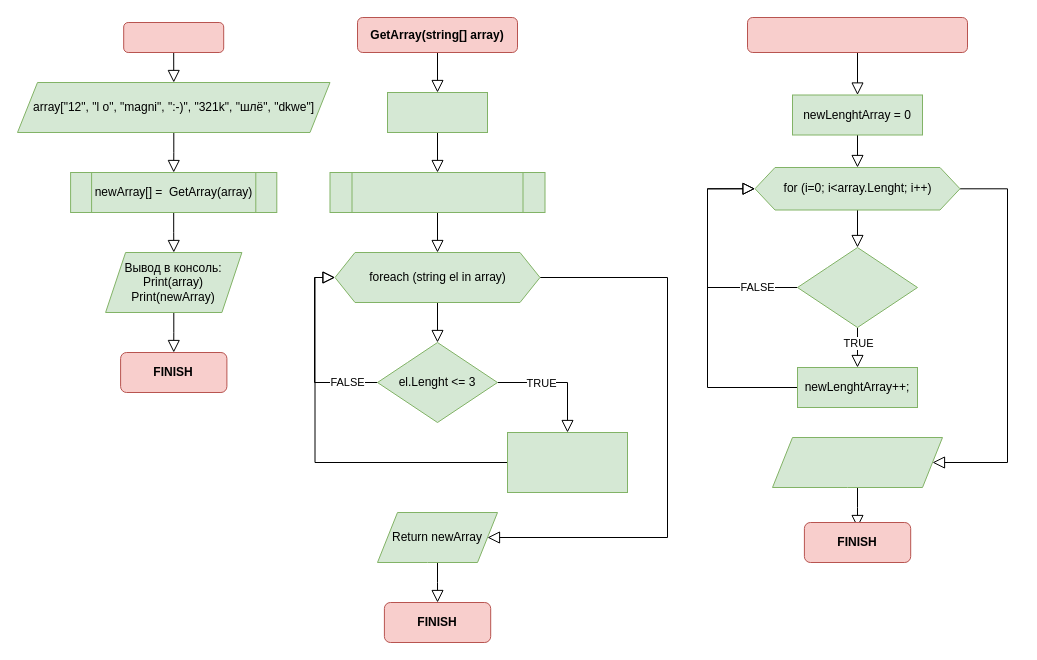
Image size: 1037x660. Some labels were removed from this diagram. The shapes that lost their labels are listed below. From the top down, each one's box as (x1, y1, x2, y2) in pixels, then its label:
(123, 22, 224, 52): START
(746, 16, 968, 52): GiveLenghtNewArray (string[] array)
(386, 92, 488, 132): index = 0
(329, 172, 545, 212): newArray[] = [GiveLenghtNewArray(array)]
(796, 246, 918, 328): array[i].Lenght <= 3
(506, 432, 628, 492): newArray[index] = el; index++;
(772, 436, 942, 488): Return newLenghtArray
